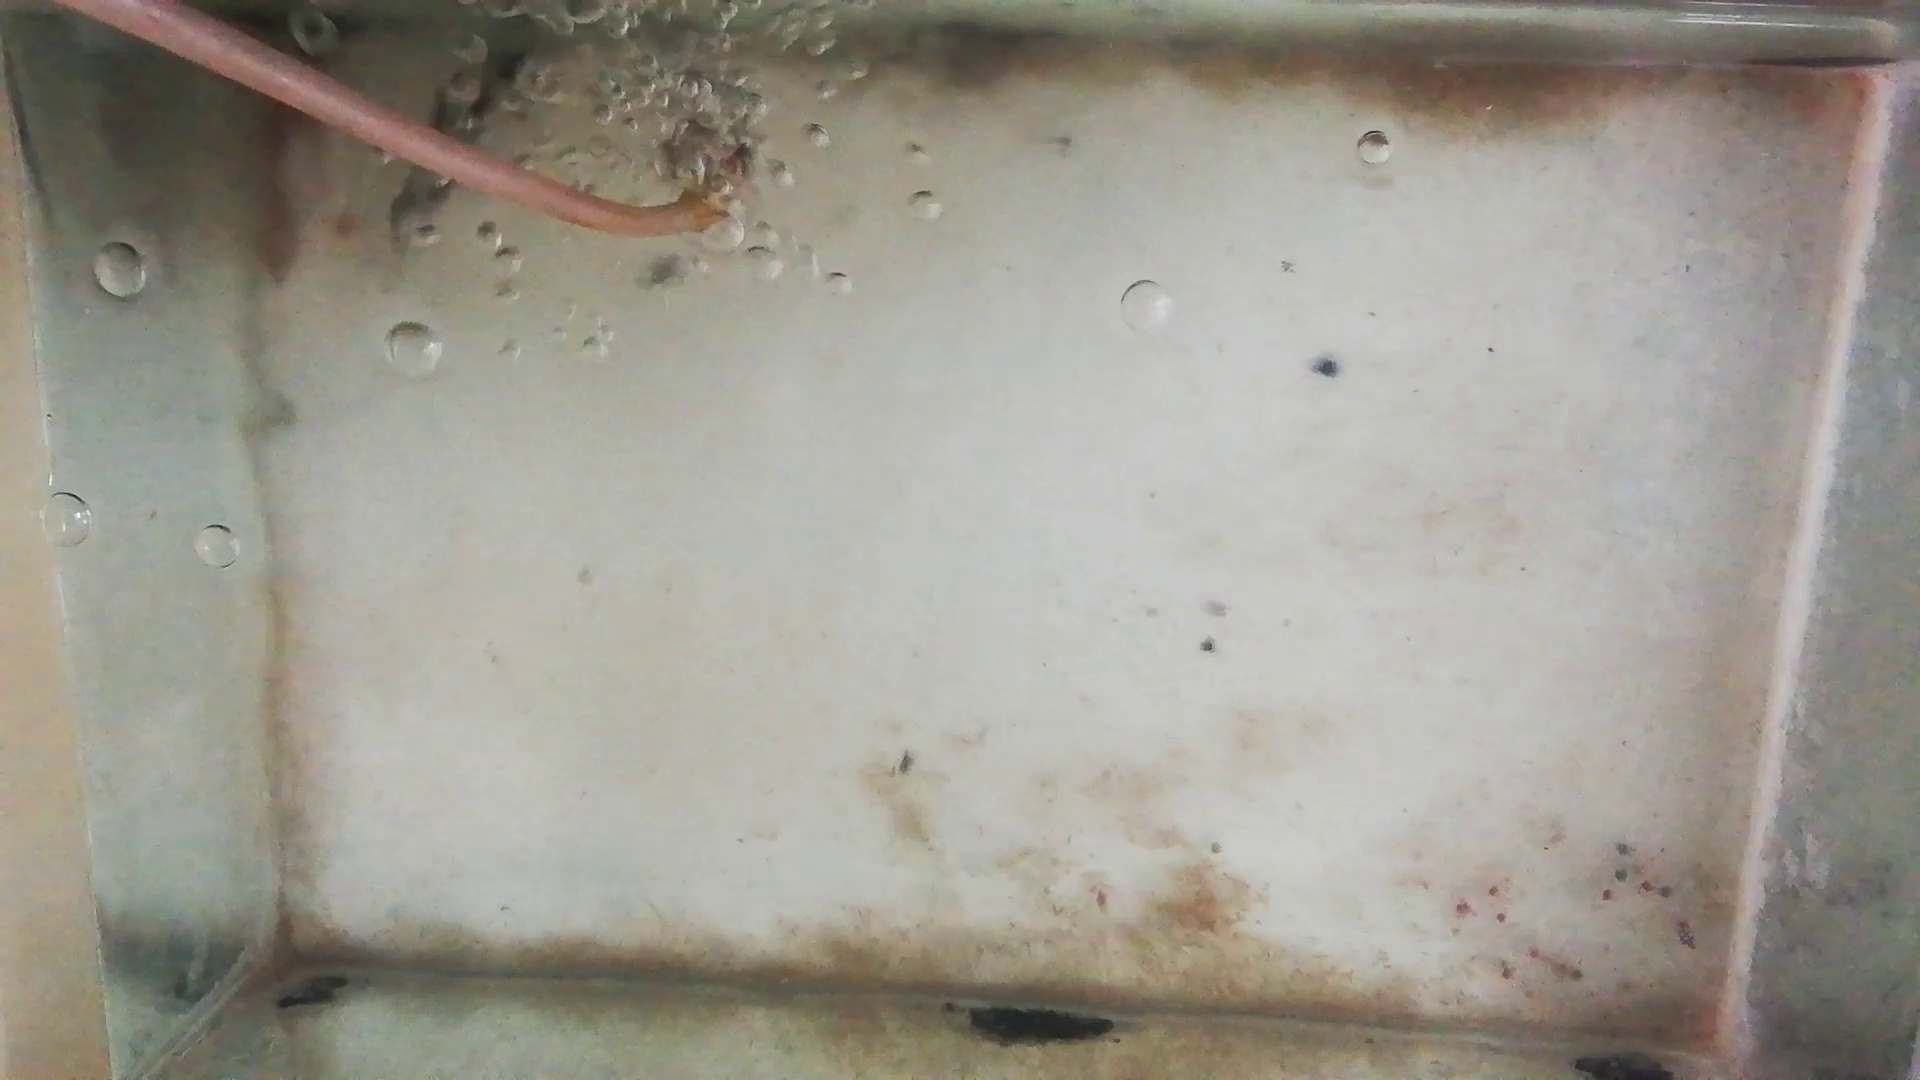fish: (401, 50, 530, 225), (256, 88, 305, 289)
